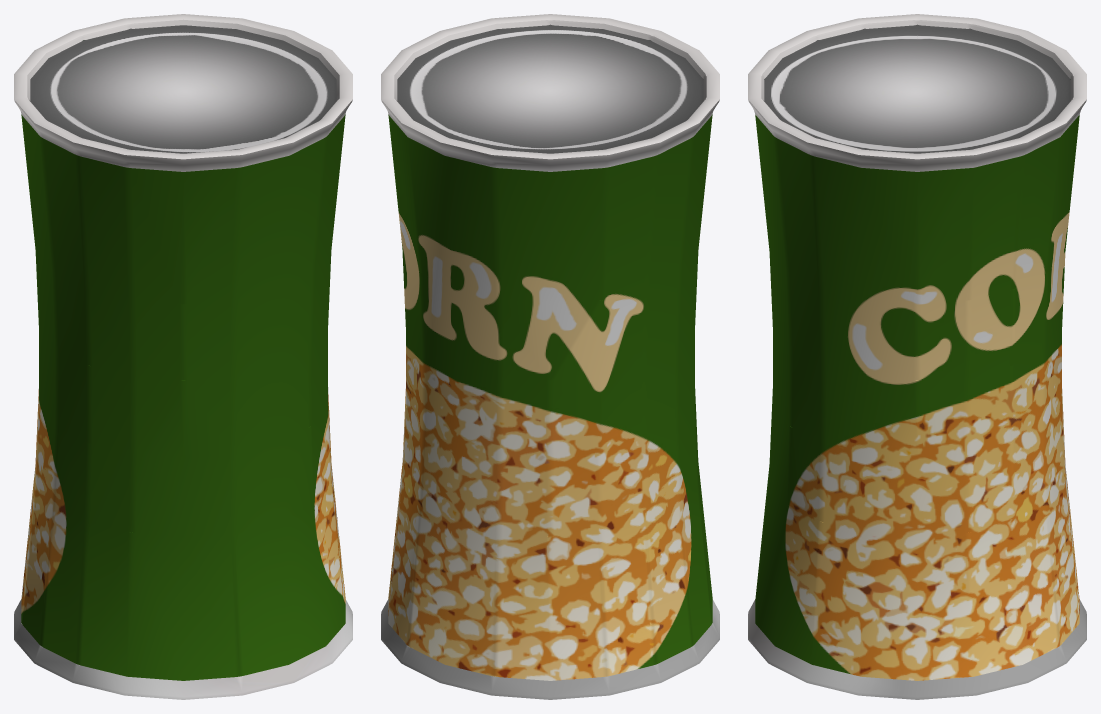
Rendered from food can.fbx.
3 renders of one model, left to right at view 1: azimuth 30°, elevation 25°; view 2: azimuth 150°, elevation 25°; view 3: azimuth 270°, elevation 25°, orthographic.
Visible parts, largest first — view 1: food can; view 2: food can; view 3: food can.
Boxes of the visible parts, box(x1,y1,x2,y2) form: food can: box(14, 14, 352, 699); food can: box(381, 14, 719, 699); food can: box(748, 14, 1086, 699).
Size of the model in its own units: 15.01 by 26.1 by 14.78.
